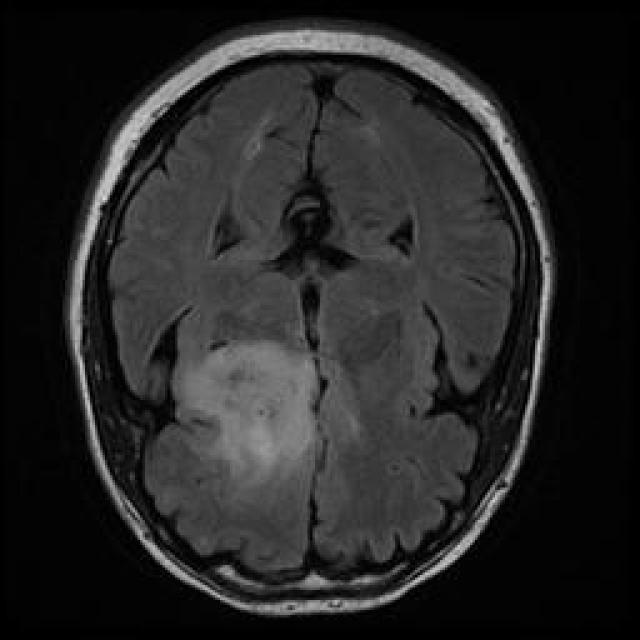Tumor: (169, 336, 348, 501)
